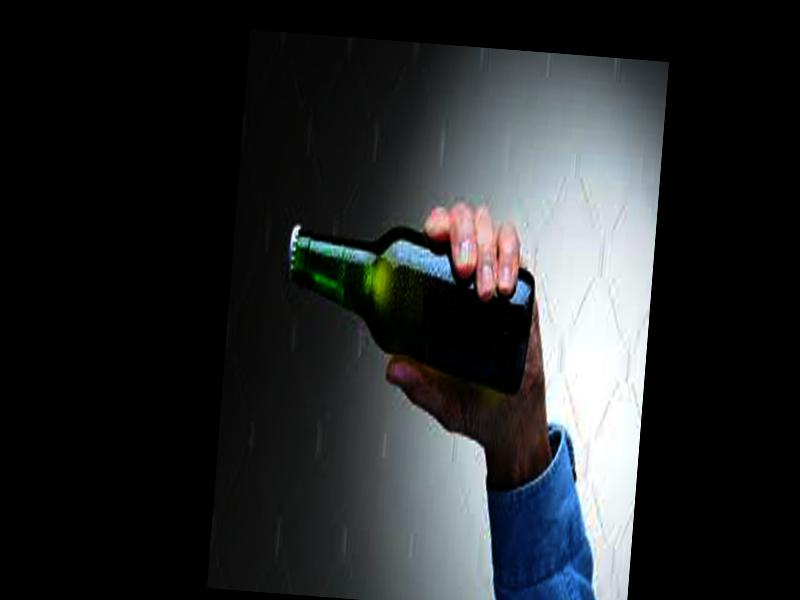Beer: (275, 220, 539, 398)
